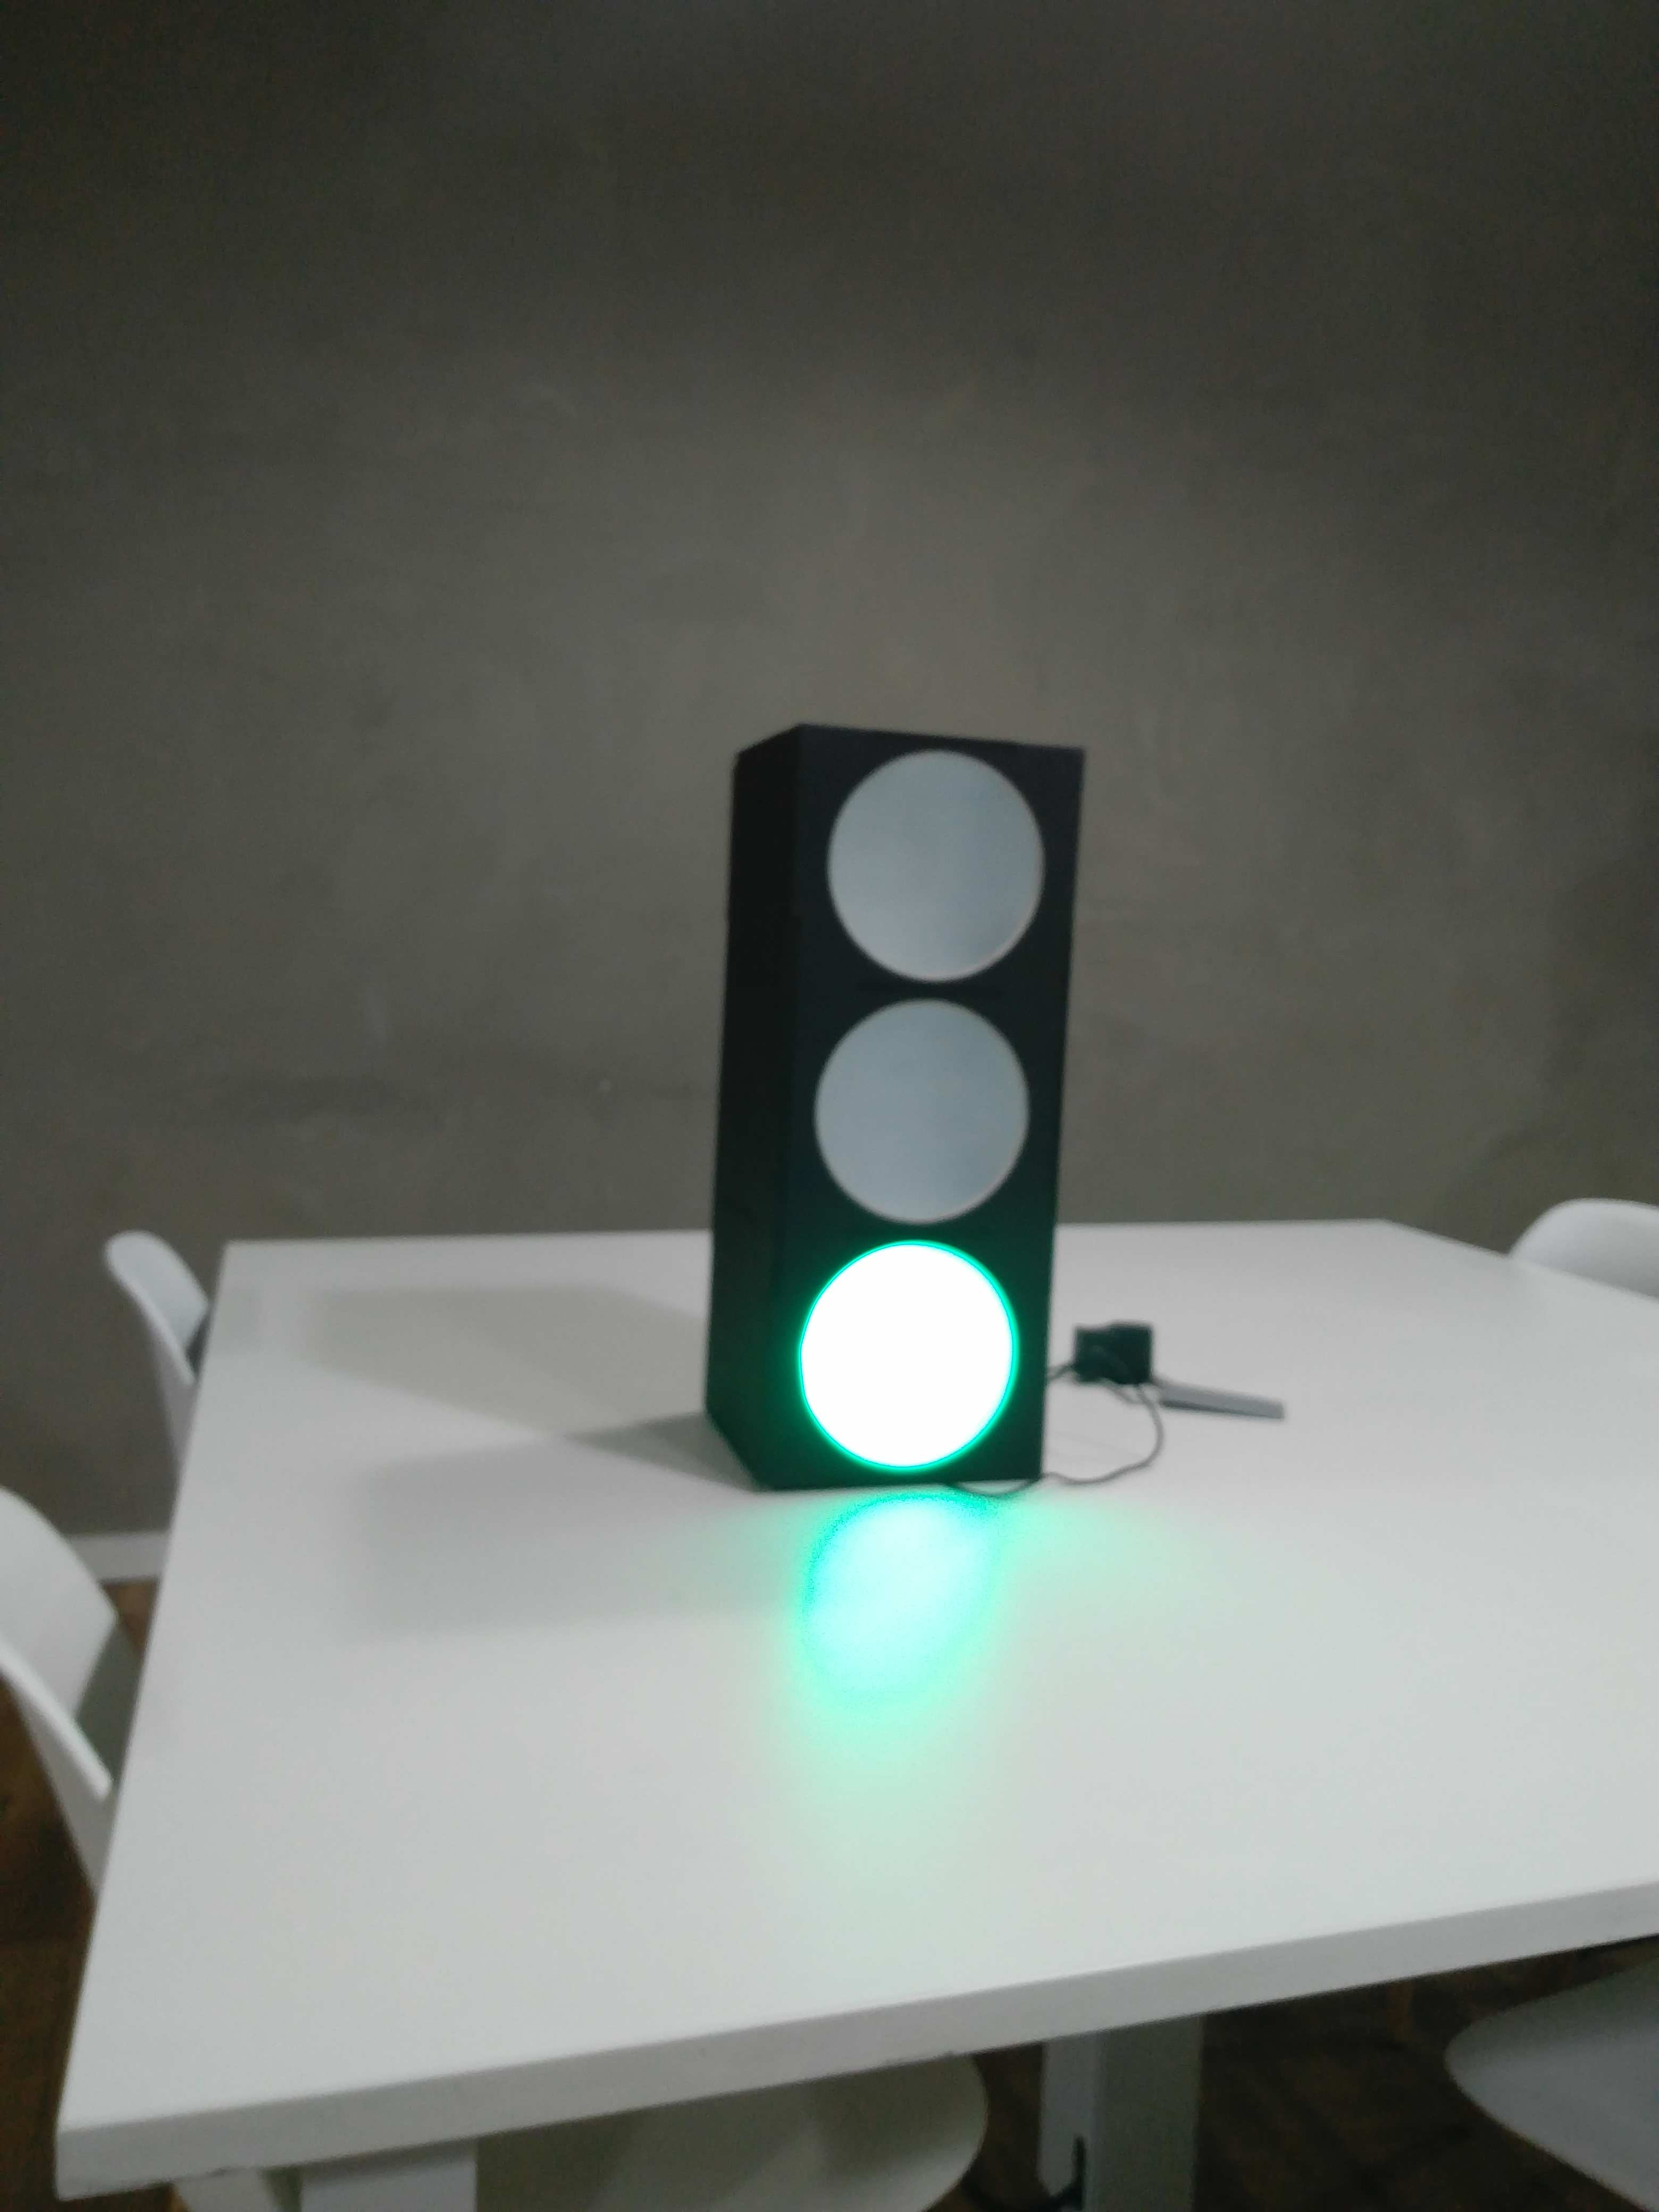go: (699, 726, 1082, 1484)
